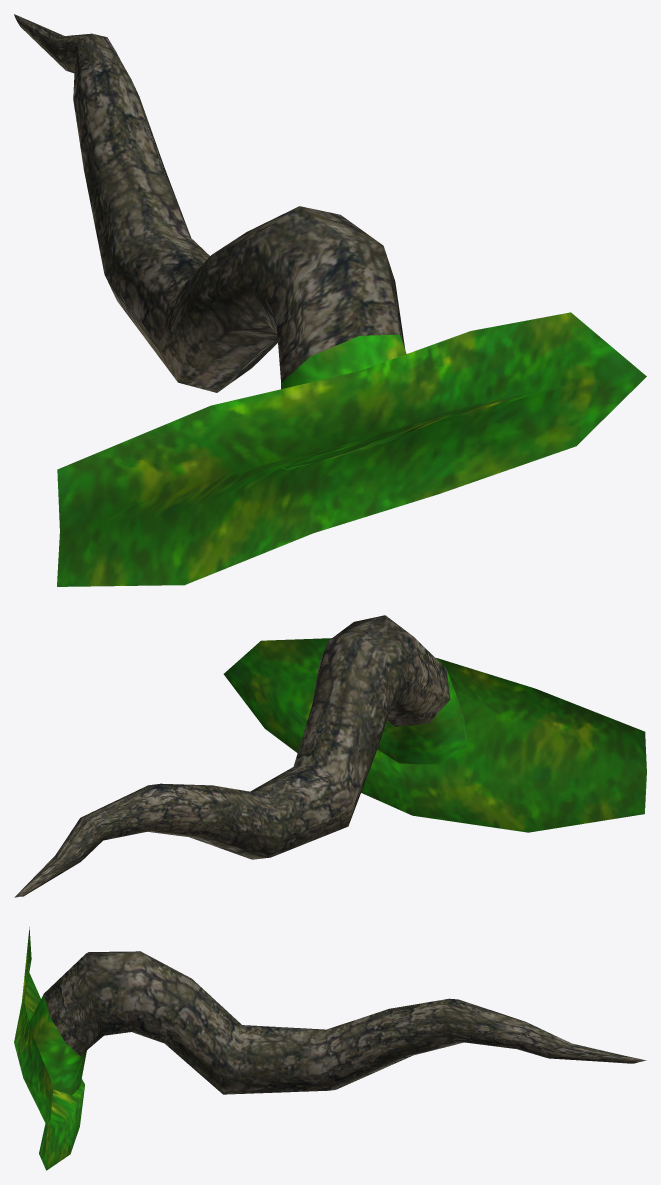
The model's file is EKH_ENTRANCE_PS_EN_BRANCH383786__GX.fbx.
3 renders of one model, top to bottom at view 1: azimuth 30°, elevation 25°; view 2: azimuth 150°, elevation 25°; view 3: azimuth 270°, elevation 25°, orthographic. The views are drawn at different scales.
Visible parts, largest first — view 1: EKH_ENTRANCE_PS_EN_BRANCH383786__GX; view 2: EKH_ENTRANCE_PS_EN_BRANCH383786__GX; view 3: EKH_ENTRANCE_PS_EN_BRANCH383786__GX.
Part boxes in pixels (x1,y1,x2,y2): EKH_ENTRANCE_PS_EN_BRANCH383786__GX: (14,14,646,586); EKH_ENTRANCE_PS_EN_BRANCH383786__GX: (14,615,646,897); EKH_ENTRANCE_PS_EN_BRANCH383786__GX: (14,927,646,1170).
Bounding box in the file's own units: 46075 × 21075 × 64937.
3 materials, 3 textured.
